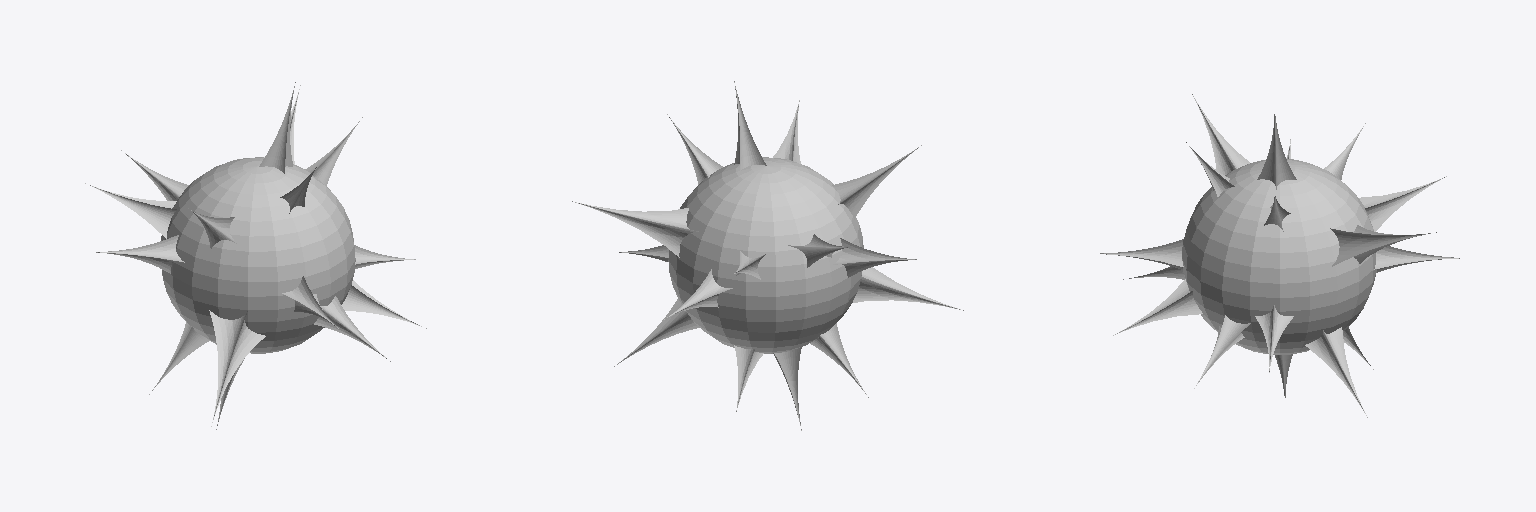
The picture shows the model from 3 angles: view 1: azimuth 30°, elevation 25°; view 2: azimuth 150°, elevation 25°; view 3: azimuth 270°, elevation 25°; orthographic projection.
Visible parts, largest first — view 1: pSphere1, pSuperShape3, pSuperShape2, pSuperShape1; view 2: pSphere1, pSuperShape3, pSuperShape2, pSuperShape1; view 3: pSphere1, pSuperShape2, pSuperShape1, pSuperShape3.
Part boxes in pixels (x1,y1,x2,y2): pSphere1: (161, 157, 355, 353); pSuperShape3: (85, 85, 426, 426); pSuperShape2: (121, 117, 390, 394); pSuperShape1: (96, 82, 415, 429); pSphere1: (668, 157, 863, 353); pSuperShape3: (572, 100, 963, 411); pSuperShape2: (614, 114, 921, 397); pSuperShape1: (619, 81, 916, 430); pSphere1: (1182, 159, 1376, 354); pSuperShape2: (1113, 94, 1446, 417); pSuperShape1: (1100, 114, 1459, 397); pSuperShape3: (1123, 123, 1436, 388).
Bounding box in the file's own units: 3.85 × 3.86 × 3.95.